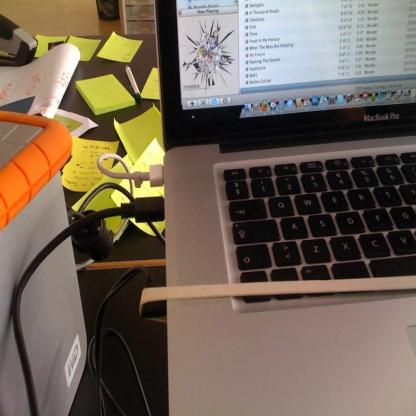board: (151, 0, 415, 415)
